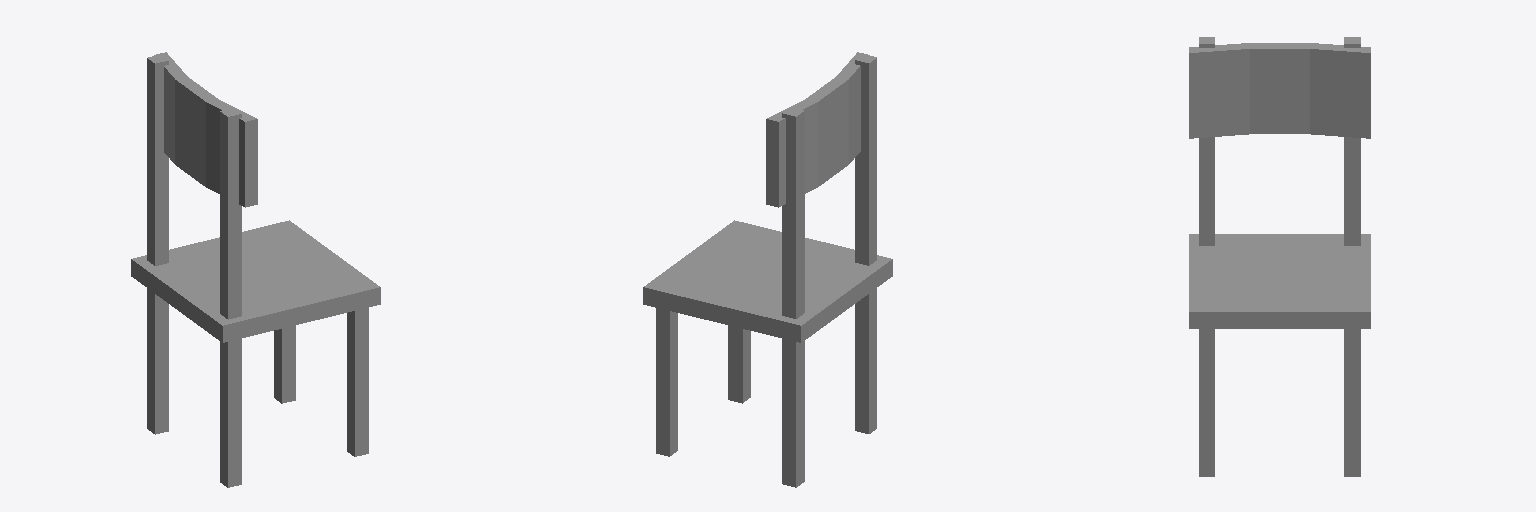
Rendered from CHAHIN_WOODEN_CHAIR.obj.
The picture shows the model from 3 angles: view 1: azimuth 30°, elevation 25°; view 2: azimuth 150°, elevation 25°; view 3: azimuth 270°, elevation 25°; orthographic projection.
Parts seen in each view (by area): view 1: Cube.008_Cube.007; view 2: Cube.008_Cube.007; view 3: Cube.008_Cube.007.
Boxes of the visible parts, <box> form: Cube.008_Cube.007: <box>131,52,380,487</box>; Cube.008_Cube.007: <box>643,52,892,487</box>; Cube.008_Cube.007: <box>1189,37,1370,476</box>.
Bounding box in the file's own units: 1.05 × 2.36 × 1.05.